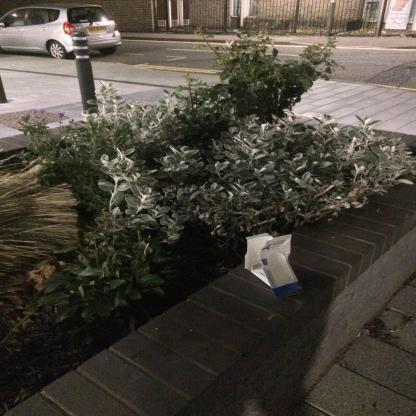karton: (247, 234, 305, 302)
